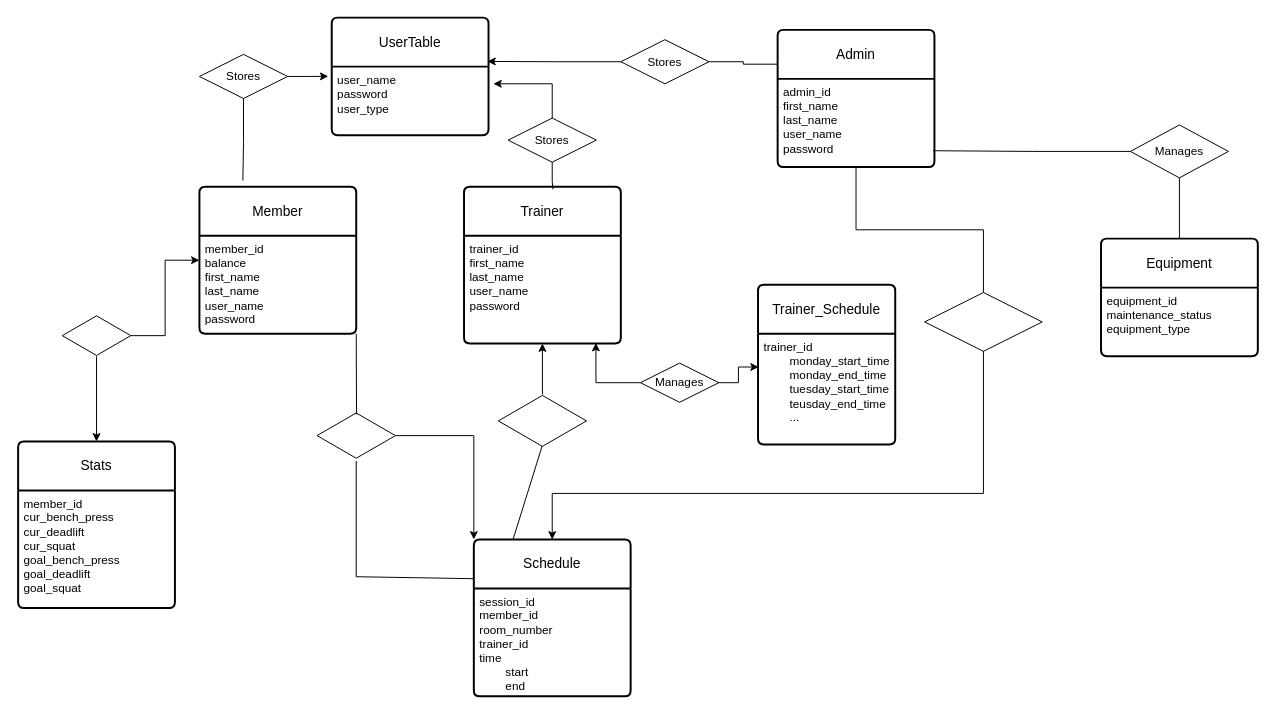
This 1275x725 diagram has some shape labels left out. Here are the shapes that lost their labels. From the top down, the centre of each, then its label:
At [96,335]: "Has".
At [983,321]: "Manag es".
At [355,435]: "Registers".
At [542,420]: "Teaches".
